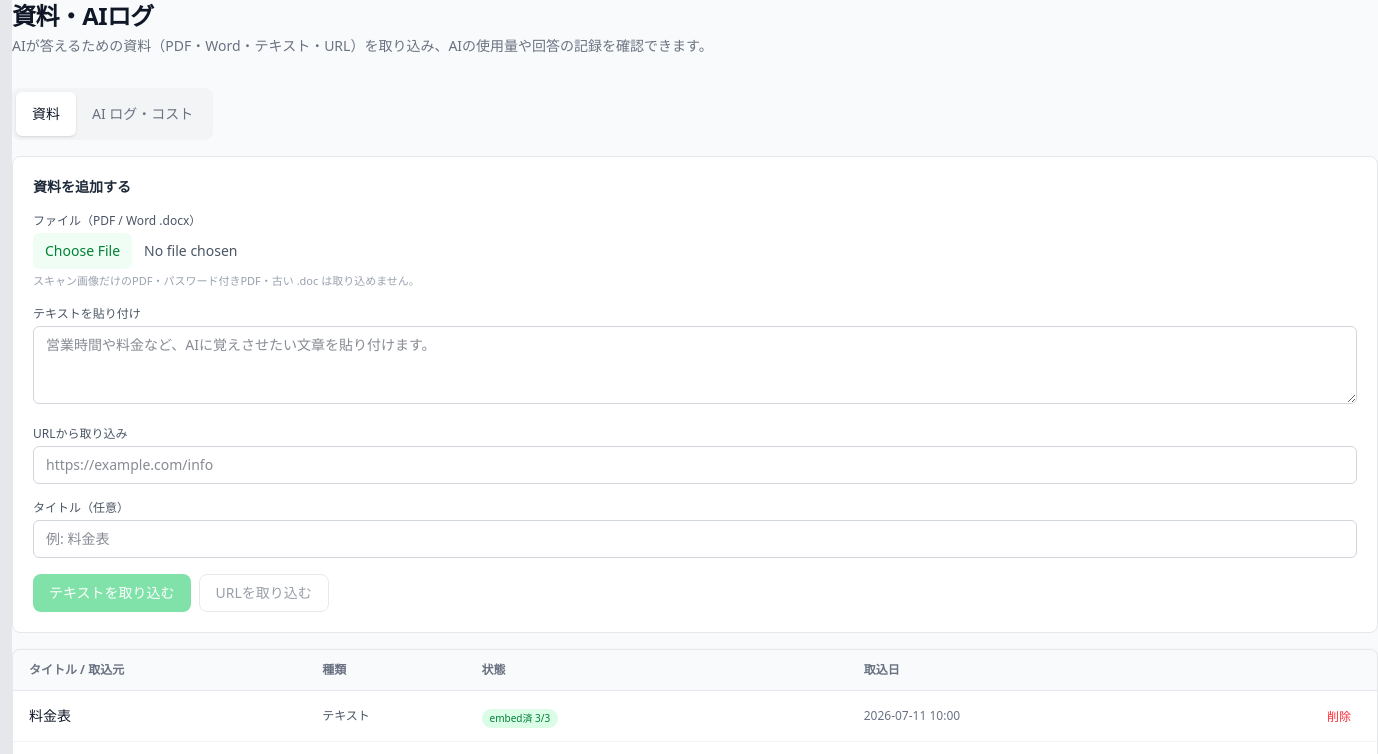
Test: /knowledge page — AI ログ・コストタブ › 通常のAI草案ログは従来どおり全状態を残し、状態名を見分けられる
The width and height of the screenshot is (1378, 754).
expect the text "料金表" is shown: met, box [29,706,71,724]
Click the button "AI ログ・コスト" at x=143, y=114, box [76,92,209,136]
(page scrolled)
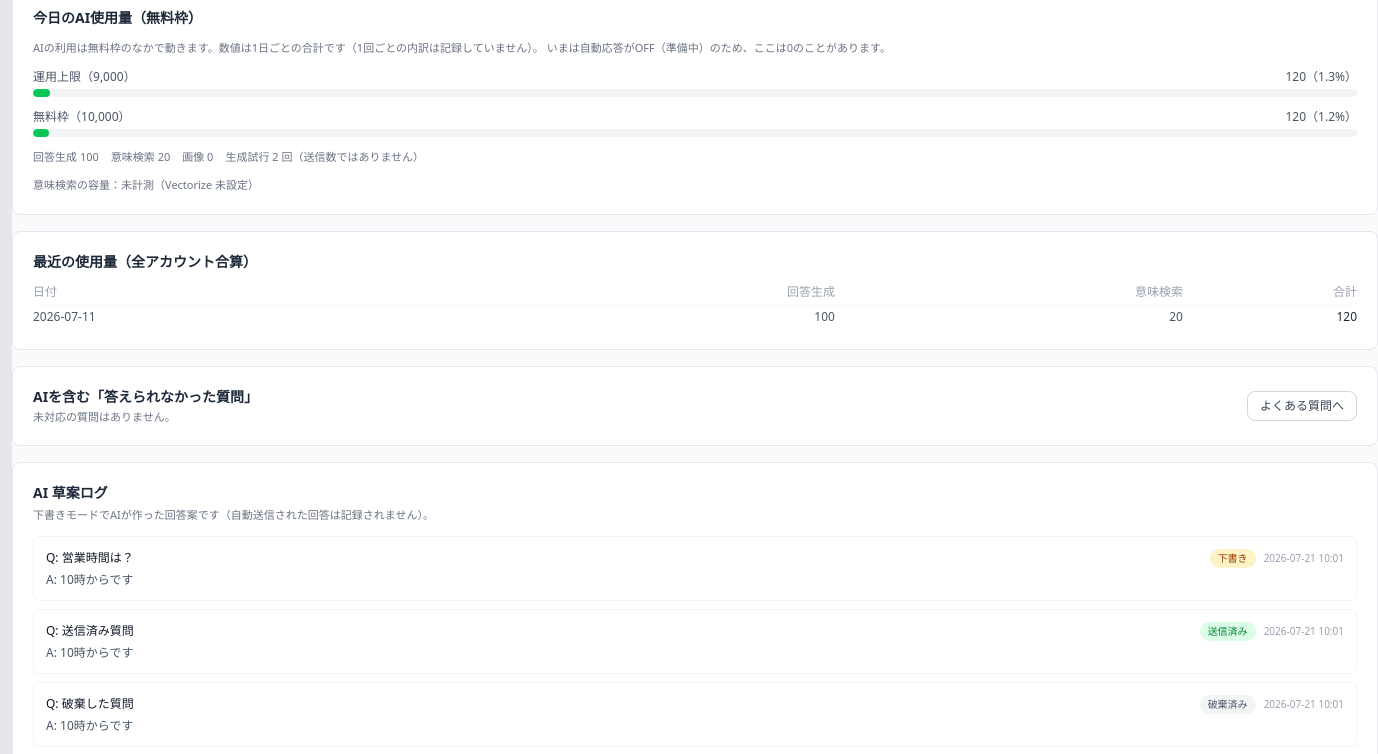
expect the text "Q: 送信済み質問" is shown: met, box [46,623,134,639]
expect the text "Q: 破棄した質問" is shown: met, box [46,696,134,712]
expect the text "下書き" is shown: met, box [1210,548,1256,568]
